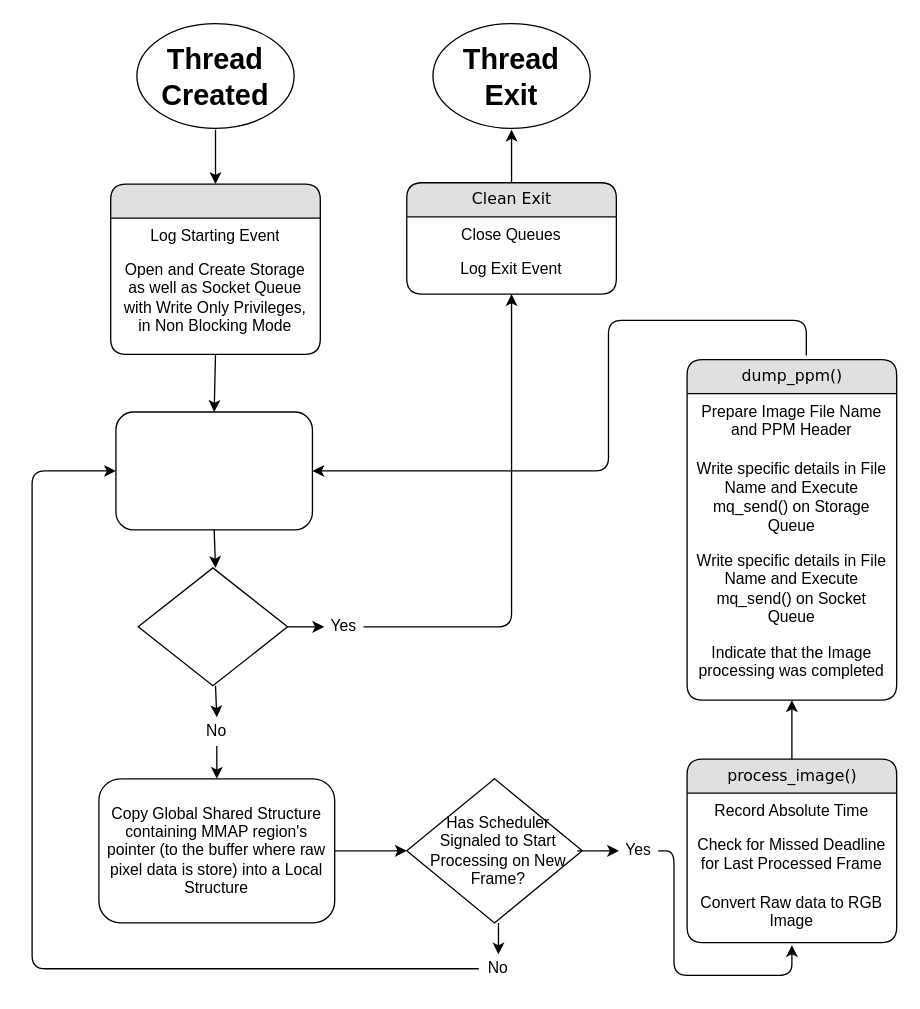
The diagram is 920 pixels wide and 1009 high, and some of its shapes have lost their labels. The shapes that lost their labels are listed below. From the top down, each one's box as (x1, y1, x2, y2) in pixels, then its label:
(109, 183, 320, 354): Setup
(115, 411, 312, 530): Execute and Block on sem_wait() for semaphore to be released from scheduler
(137, 567, 288, 686): Is Terminate_Flag set?
